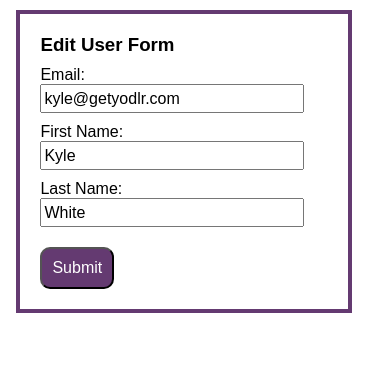
Test: edits a user's record
The width and height of the screenshot is (369, 368).
Step 1. Replace the text in the field labelled "Email:" with "kylewhite@getyodlr.com" → (172, 98), box [40,84,304,113]
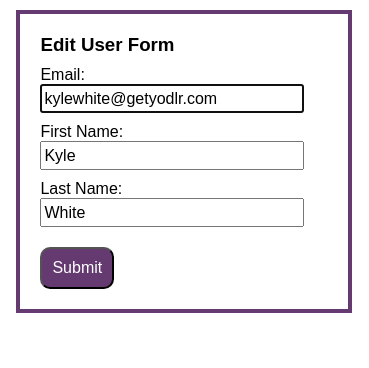
Step 2. Click the button "Submit" → (77, 268), box [40,247,114,289]
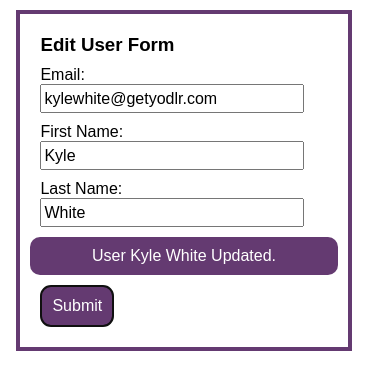
expect the text "User Kyle White Updated." is shown: met, box [30,237,338,275]
